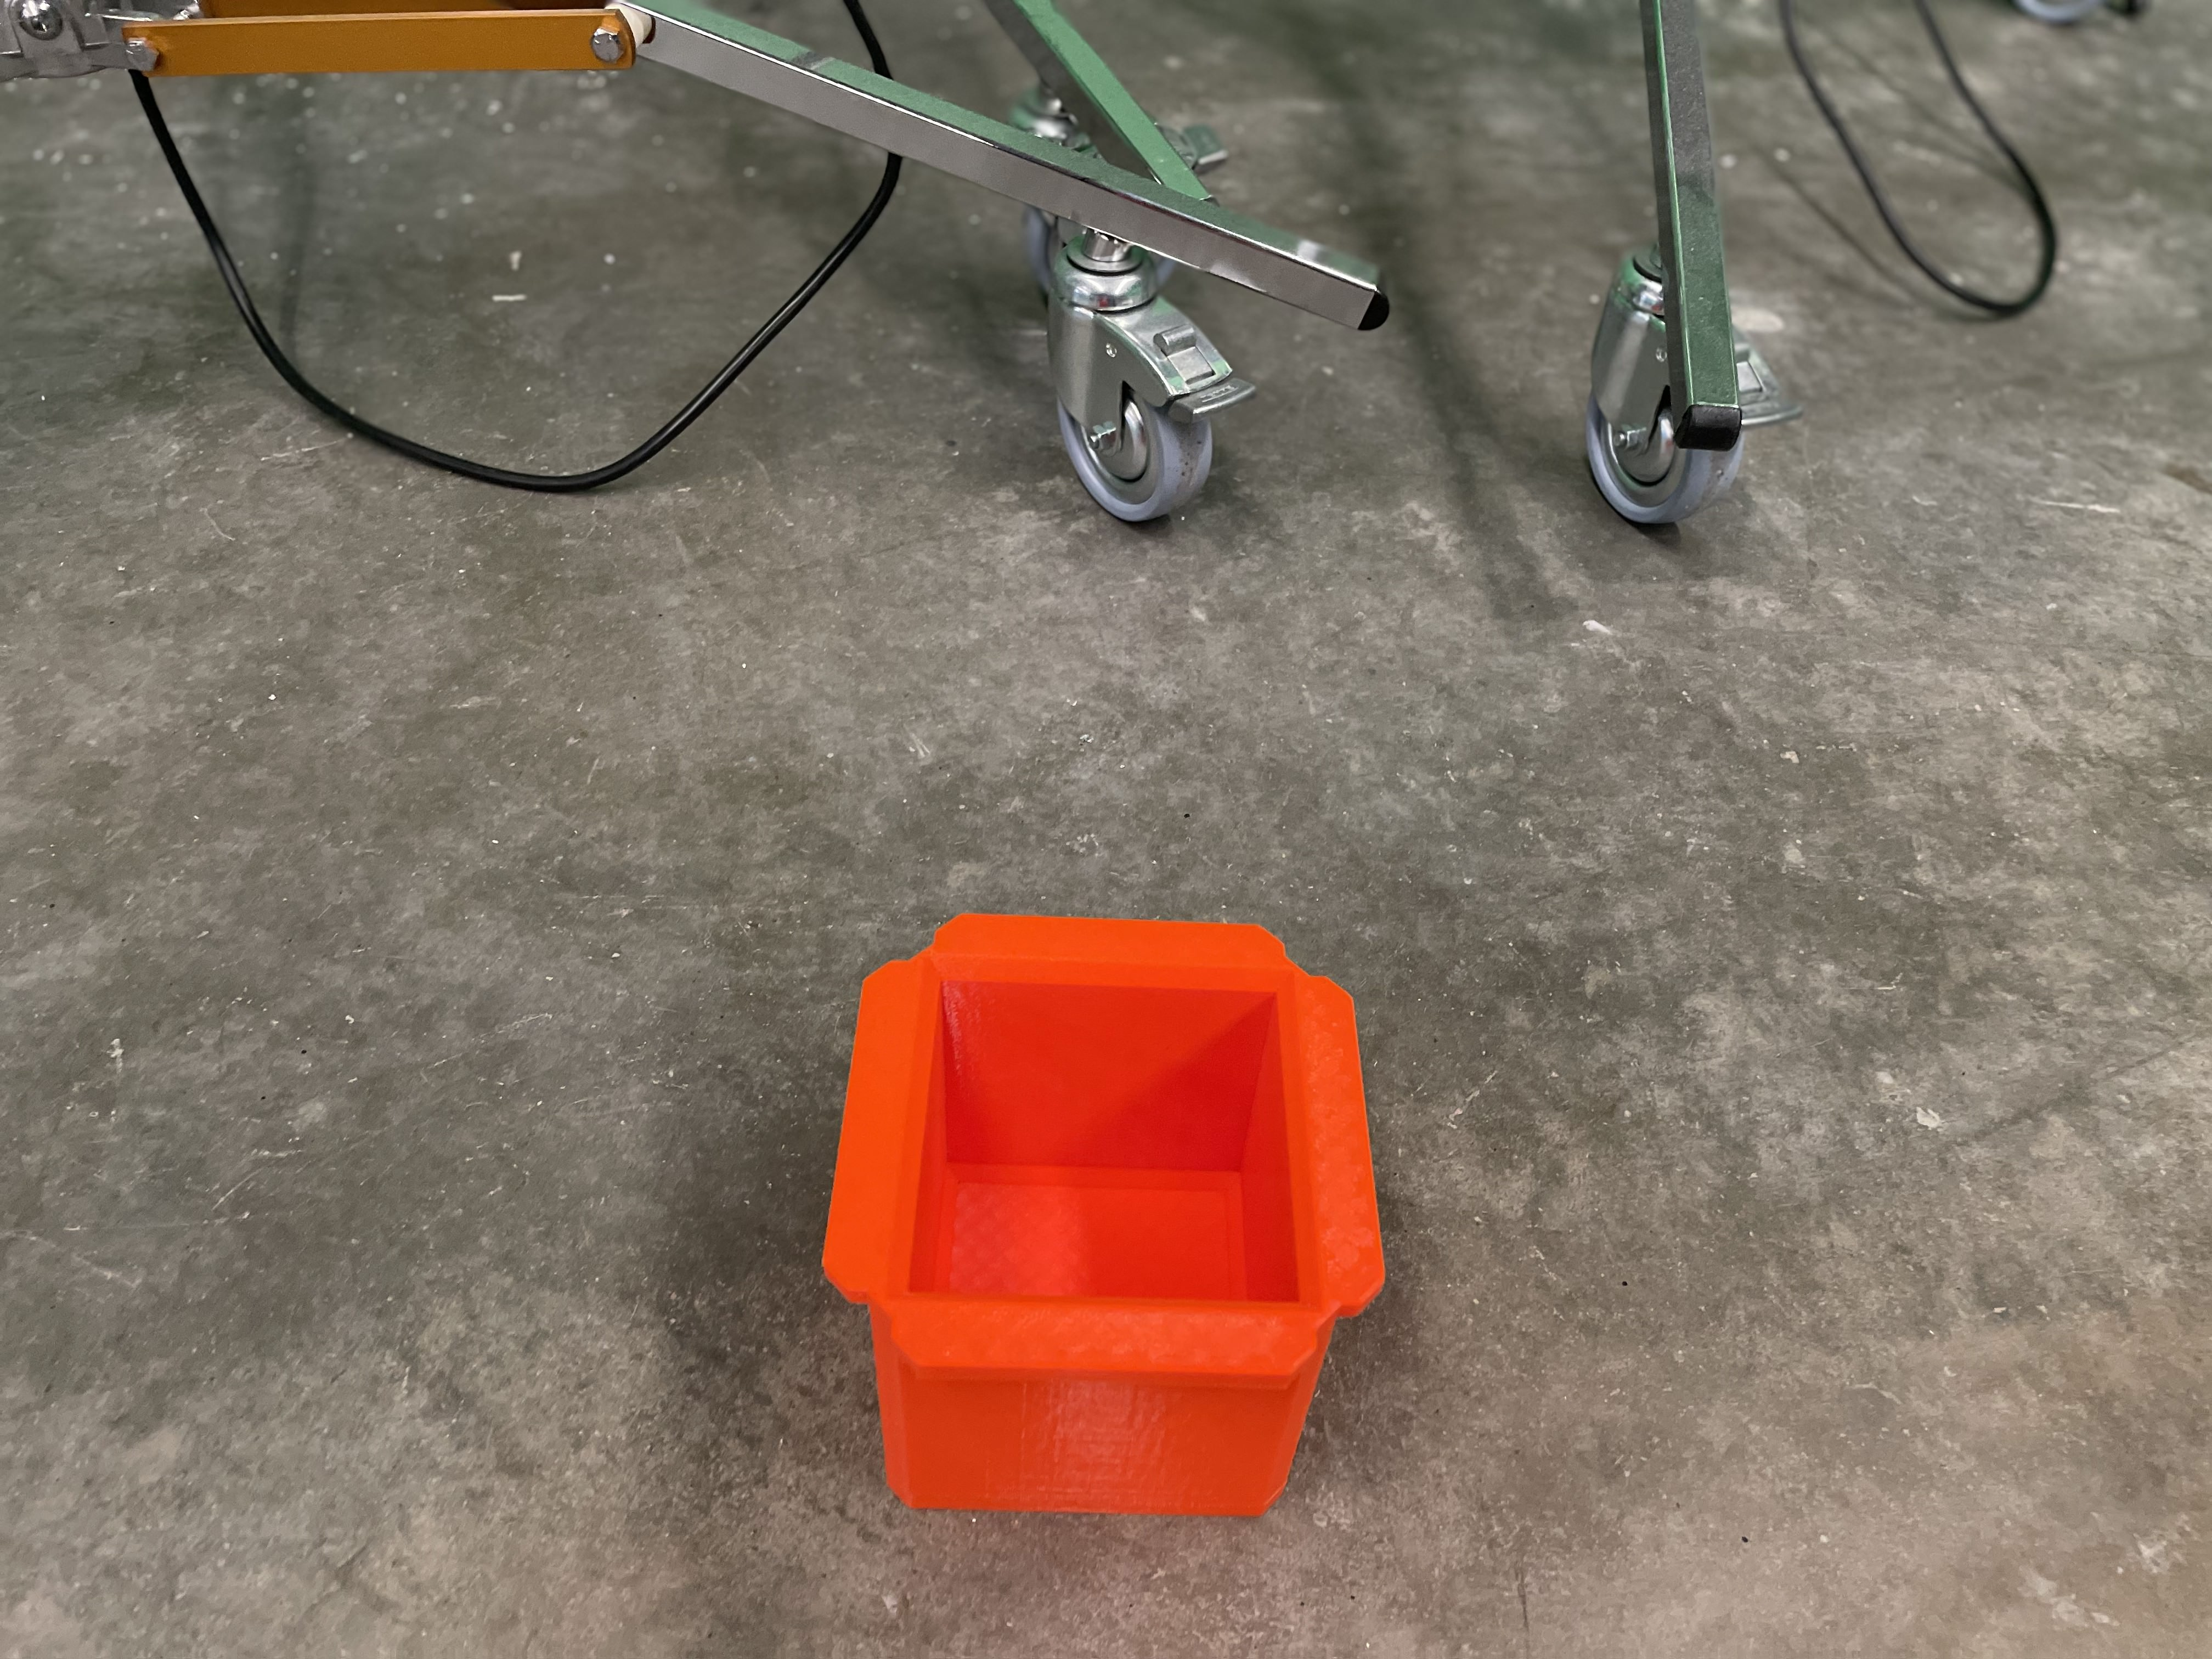payload1: (812, 901, 1402, 1535)
